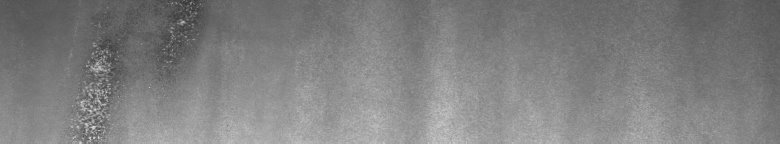hc: (71, 4, 203, 136)
